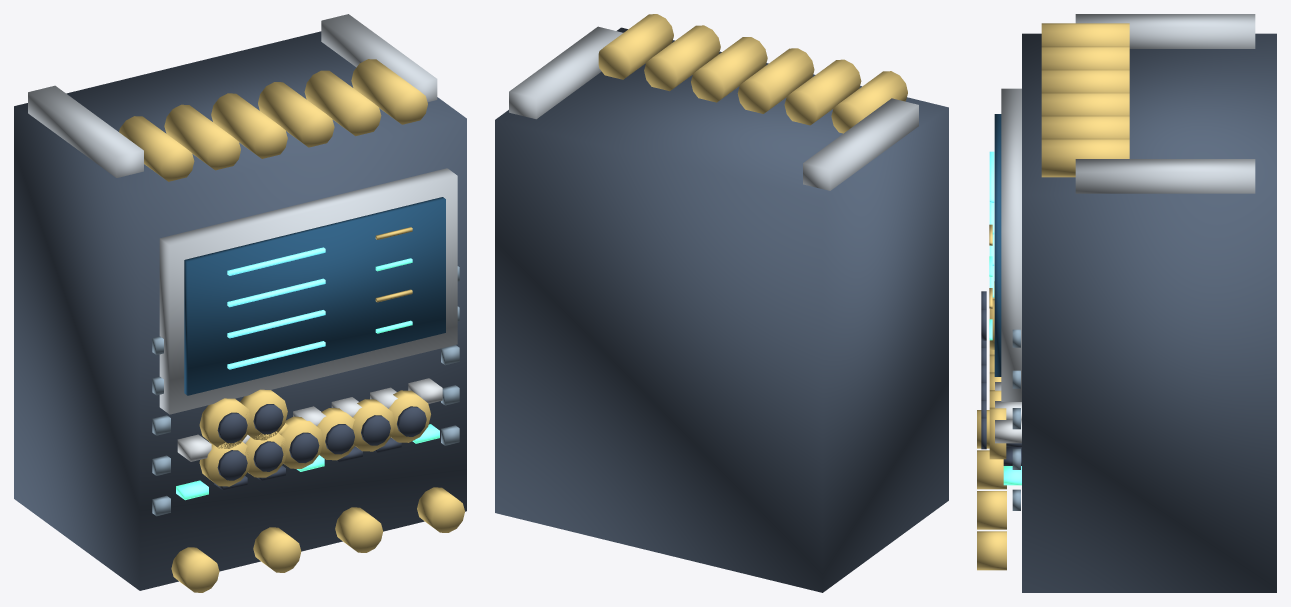
Rendered from 32_L85_ThrusterValveDriverRack.glb.
3 views of the same model, side by side, from view 1: azimuth 30°, elevation 25°; view 2: azimuth 150°, elevation 25°; view 3: azimuth 270°, elevation 25° (orthographic).
Parts seen in each view (by area): view 1: L85_ThrusterValveDriverRack, L85_ThrusterValveDriverRack_Part_0022, L85_ThrusterValveDriverRack_Part_0018, L85_ThrusterValveDriverRack_Part_0024, L85_ThrusterValveDriverRack_Part_0014, L85_ThrusterValveDriverRack_Part_0010, L85_ThrusterValveDriverRack_Part_0020, L85_ThrusterValveDriverRack_Part_0016, L85_ThrusterValveDriverRack_Part_0012, L85_ThrusterValveDriverRack_Part_0017, L85_ThrusterValveDriverRack_Part_0013, L85_ThrusterValveDriverRack_Part_0019 (+5 smaller); view 2: L85_ThrusterValveDriverRack; view 3: L85_ThrusterValveDriverRack, L85_ThrusterValveDriverRack_Part_0020.
Boxes of the visible parts, x1,y1,x2,y2 form: L85_ThrusterValveDriverRack: [14, 14, 466, 592]; L85_ThrusterValveDriverRack_Part_0022: [199, 398, 251, 448]; L85_ThrusterValveDriverRack_Part_0018: [352, 399, 395, 451]; L85_ThrusterValveDriverRack_Part_0024: [240, 389, 287, 440]; L85_ThrusterValveDriverRack_Part_0014: [280, 416, 323, 468]; L85_ThrusterValveDriverRack_Part_0010: [199, 441, 251, 486]; L85_ThrusterValveDriverRack_Part_0020: [389, 390, 430, 442]; L85_ThrusterValveDriverRack_Part_0016: [317, 408, 354, 460]; L85_ThrusterValveDriverRack_Part_0012: [245, 431, 286, 477]; L85_ThrusterValveDriverRack_Part_0017: [325, 424, 354, 454]; L85_ThrusterValveDriverRack_Part_0013: [253, 441, 283, 471]; L85_ThrusterValveDriverRack_Part_0019: [361, 415, 390, 445]; L85_ThrusterValveDriverRack: [495, 14, 948, 592]; L85_ThrusterValveDriverRack: [977, 14, 1276, 592]; L85_ThrusterValveDriverRack_Part_0020: [989, 407, 1006, 459].
Bounding box in the file's own units: 0.9588 × 1.19 × 0.752.
